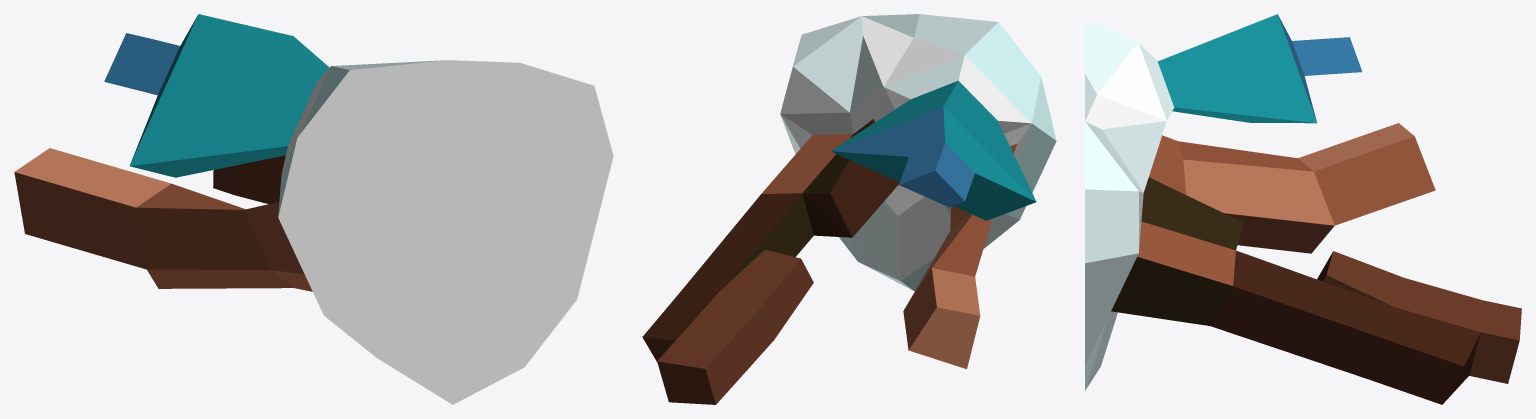
The model's file is winter_object_3.fbx.
3 views of the same model, side by side, from view 1: azimuth 30°, elevation 25°; view 2: azimuth 150°, elevation 25°; view 3: azimuth 270°, elevation 25° (orthographic). The views are drawn at different scales.
Visible parts, largest first — view 1: winter_object_3; view 2: winter_object_3; view 3: winter_object_3.
Part boxes in pixels (<box>): winter_object_3: <box>14,14,613,404</box>; winter_object_3: <box>642,14,1056,404</box>; winter_object_3: <box>1085,14,1521,404</box>.
Bounding box in the file's own units: 89.91 × 73.64 × 92.54.
